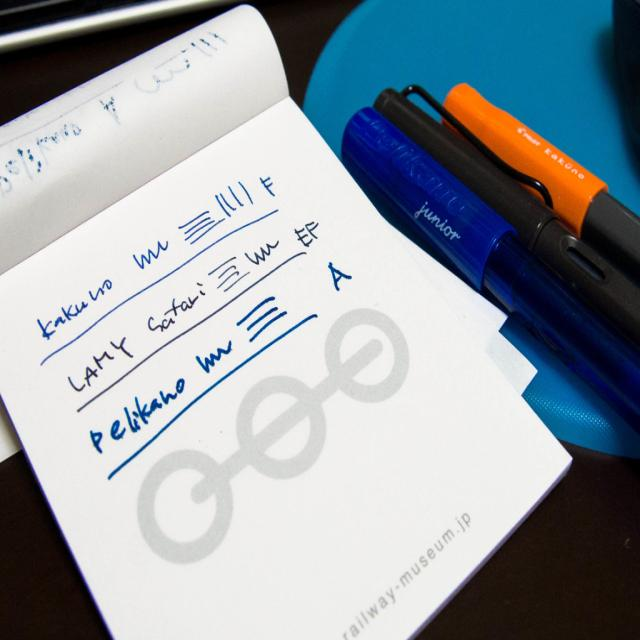pen: (339, 104, 636, 435), (372, 81, 637, 340), (438, 75, 640, 282)
